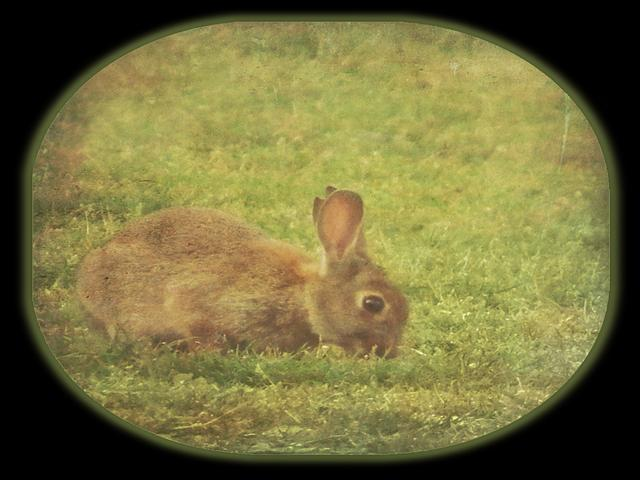rabbit: (26, 162, 453, 361)
